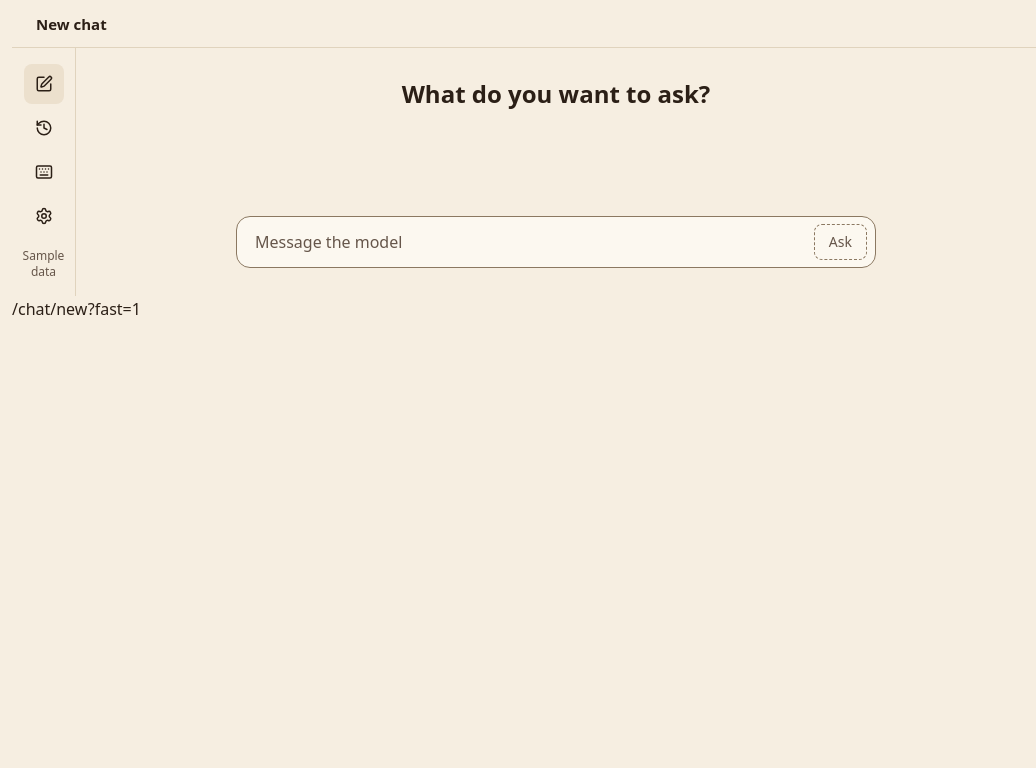
Test: new chat › Ask makes a chat, goes to it with the address options kept, and shows the answer
The image size is (1036, 768).
In the text box labelled "Message the model": (530, 242) [255,224,806,260], type "Why is the sky blue?"
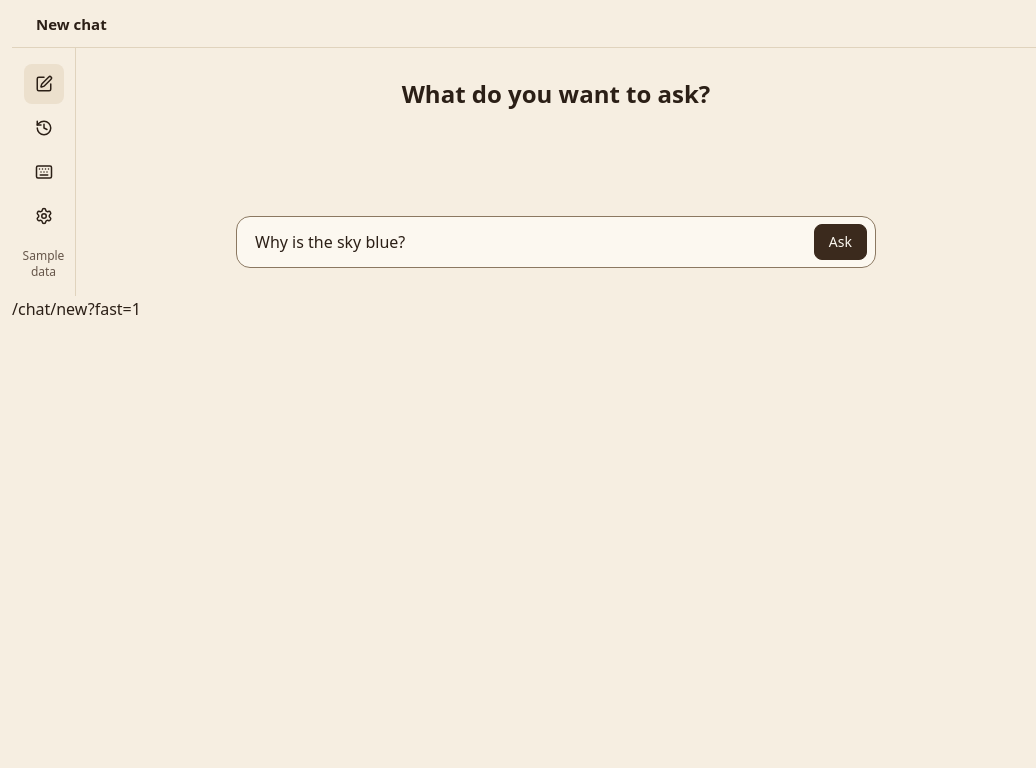
Press Enter in the text box named "Message the model", box [255,224,806,260]
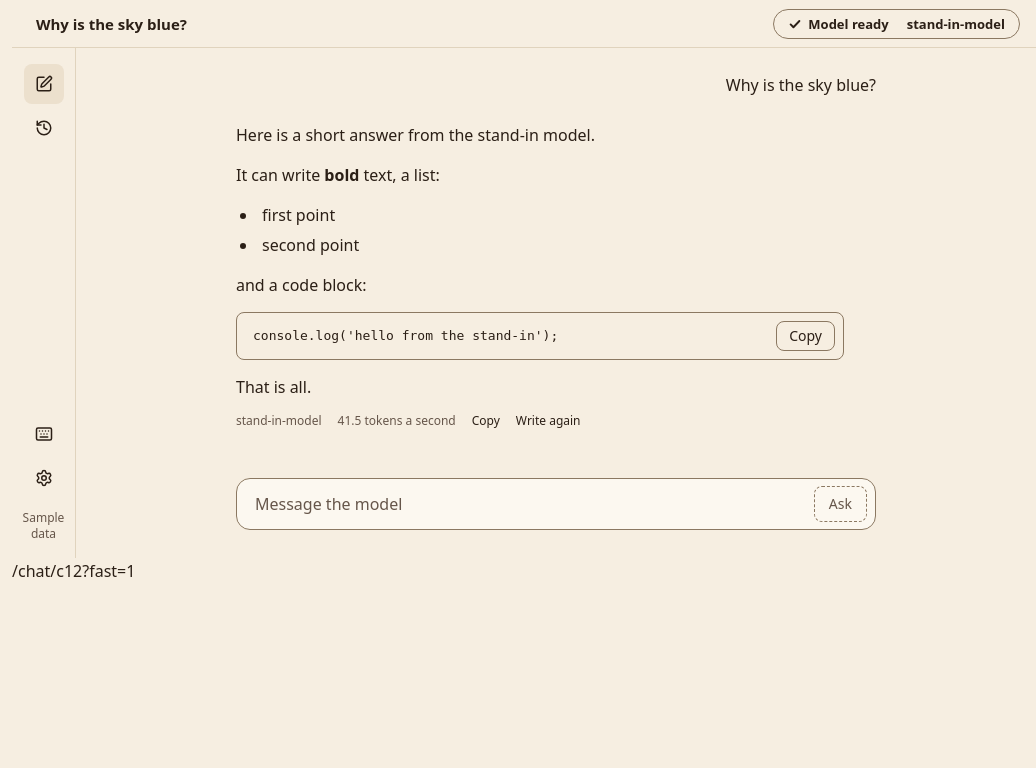
expect the text with test id "address" reads "/chat/c12?fast=1": met, box [12,560,135,582]
expect the heading reads "Why is the sky blue?": met, box [36,14,187,34]
expect the text box labelled "Message the model" is empty: met, box [255,486,806,522]
